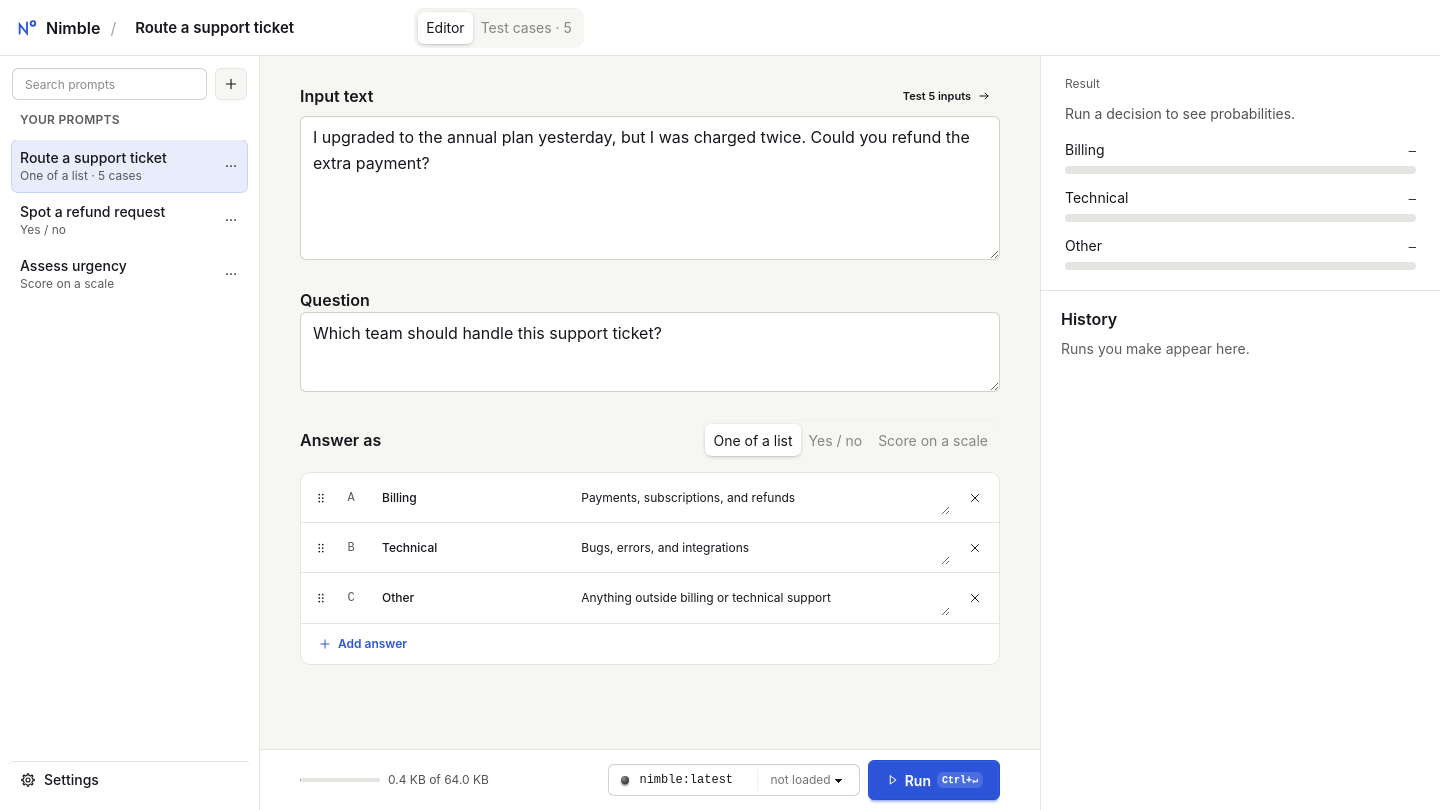
it: workspace workflows › saves pending edits before opening another prompt
This screenshot has width=1440, height=810.
Type " Changed" into the text box labelled "Question". click: (650, 352)
box: [300,312,1000,392]
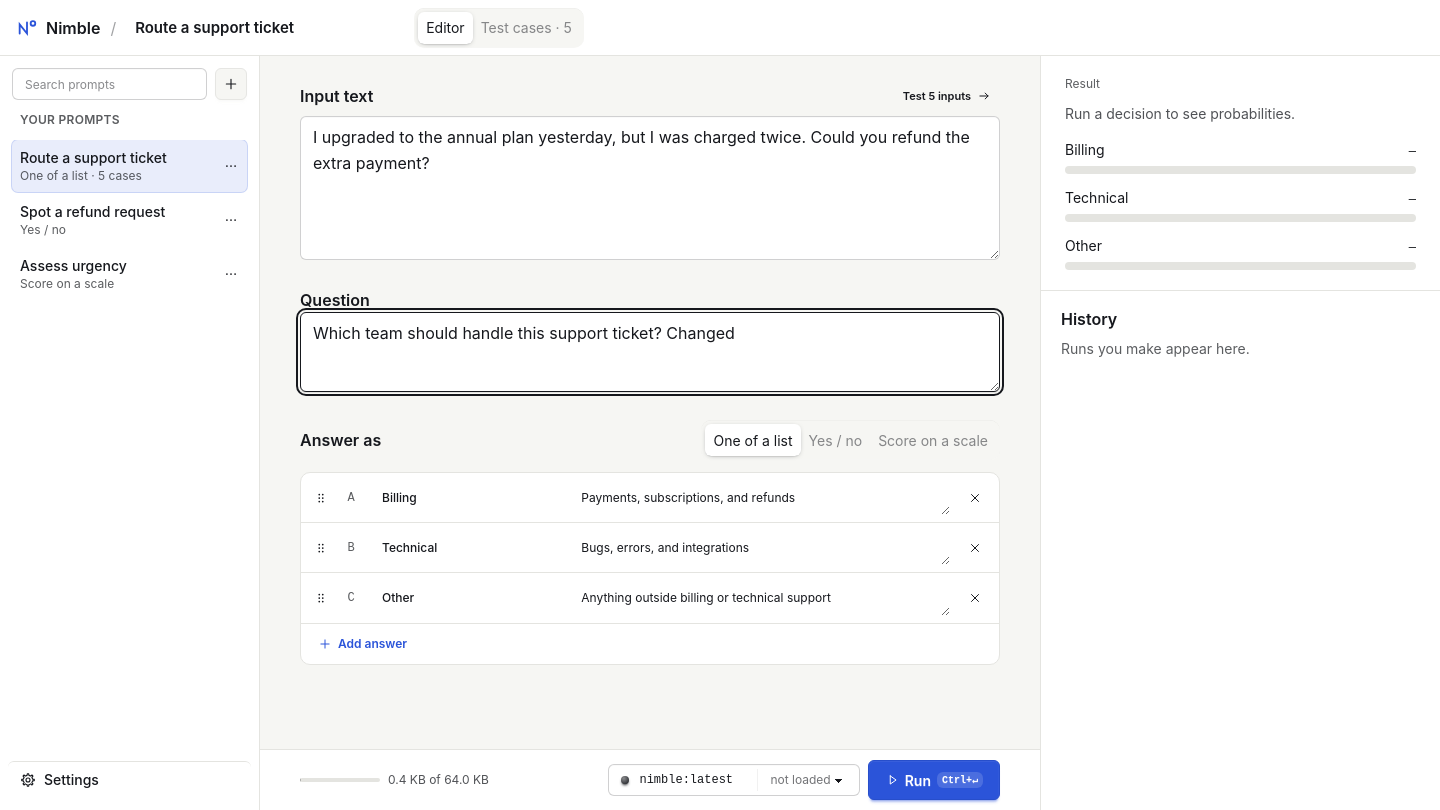
Click the button with aria-label "Open Assess urgency". click: click(116, 274)
box: [12,248,219,300]
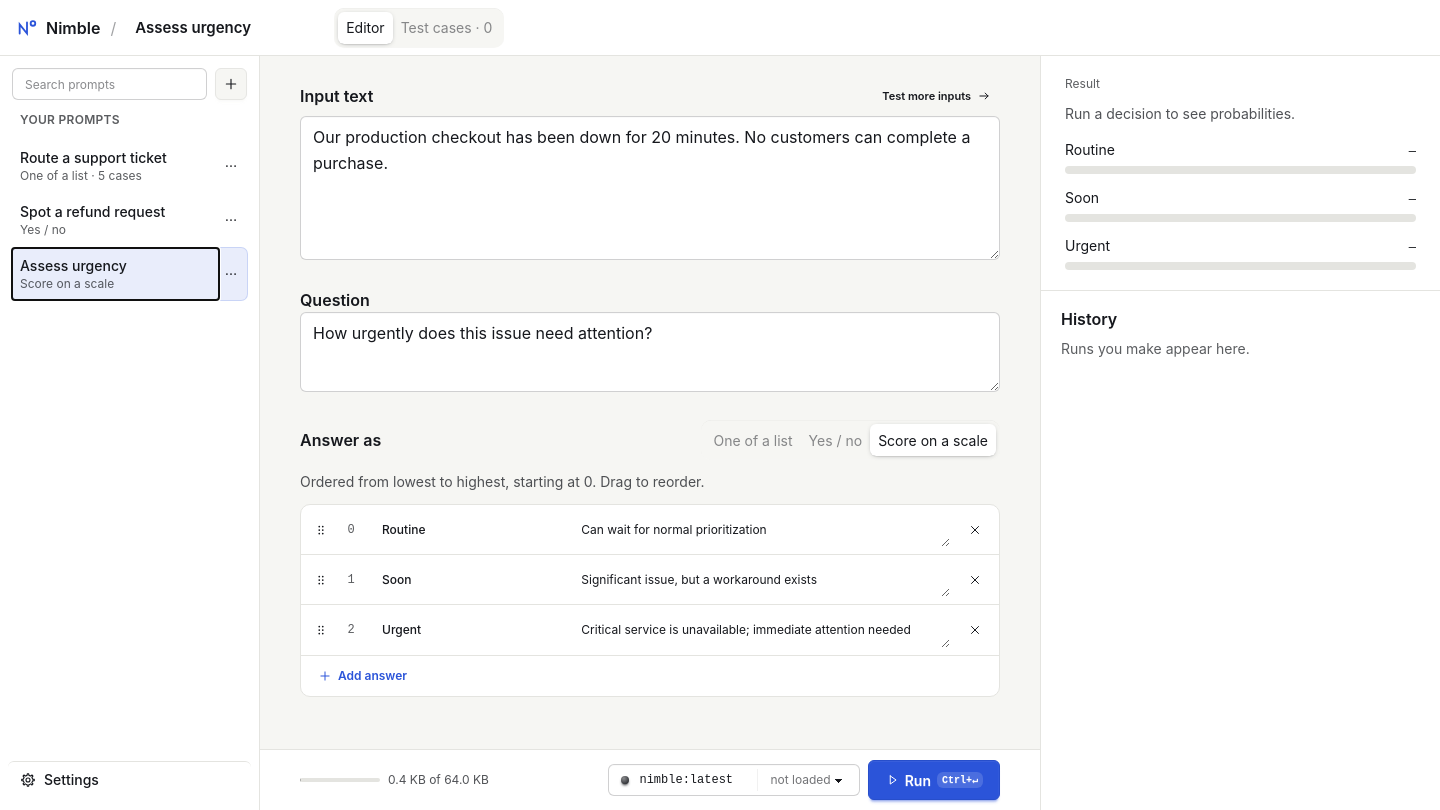
expect the field named "Prompt name" holds "Assess urgency": met, box [126,12,324,44]
